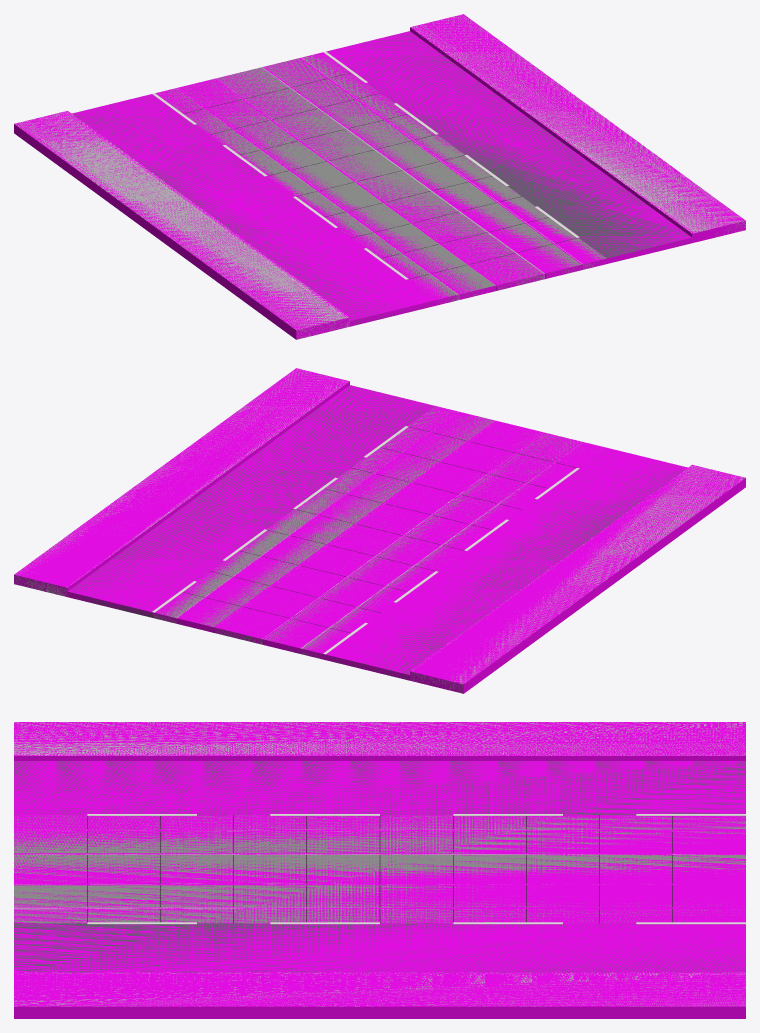
File: PT_Road_TramUrban_20m.fbx
3 renders of one model, top to bottom at view 1: azimuth 30°, elevation 25°; view 2: azimuth 150°, elevation 25°; view 3: azimuth 270°, elevation 25°, orthographic. The views are drawn at different scales.
Visible parts, largest first — view 1: COL_Road, Surface_TrackZone, Surface_Asphalt, Sidewalk, Curb, Rail_Heads, Surface_Joints, Markings_White; view 2: COL_Road, Surface_Asphalt, Surface_TrackZone, Sidewalk, Surface_Joints, Markings_White, Rail_Heads, Curb; view 3: COL_Road, Surface_TrackZone, Surface_Asphalt, Sidewalk, Markings_White, Rail_Heads, Curb, Surface_Joints.
Boxes of the visible parts, box(x1,y1,x2,y2) form: COL_Road: box(14, 14, 745, 339); Surface_TrackZone: box(155, 55, 606, 303); Surface_Asphalt: box(72, 31, 692, 325); Sidewalk: box(15, 14, 745, 339); Curb: box(63, 26, 696, 327); Rail_Heads: box(176, 57, 583, 300); Surface_Joints: box(183, 73, 578, 279); Markings_White: box(152, 51, 579, 279); COL_Road: box(14, 368, 745, 693); Surface_Asphalt: box(67, 385, 685, 679); Surface_TrackZone: box(153, 406, 603, 659); Sidewalk: box(14, 369, 744, 692); Surface_Joints: box(183, 427, 576, 632); Markings_White: box(152, 426, 579, 654); Rail_Heads: box(176, 412, 580, 653); Curb: box(63, 381, 695, 680); COL_Road: box(14, 722, 745, 1018); Surface_TrackZone: box(14, 815, 745, 923); Surface_Asphalt: box(14, 761, 745, 972); Sidewalk: box(14, 722, 745, 1006); Markings_White: box(87, 814, 745, 924); Rail_Heads: box(14, 829, 736, 909); Curb: box(14, 753, 745, 975); Surface_Joints: box(87, 815, 672, 923).
Bounding box in the file's own units: 18.4 × 0.37 × 20.
